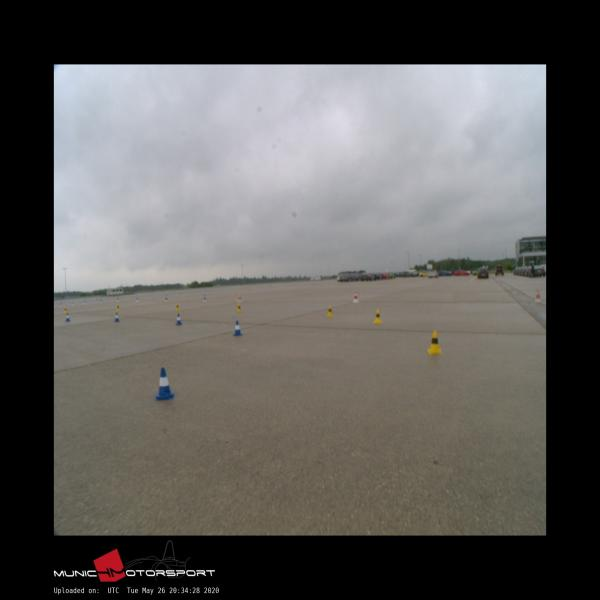blue_cone: (155, 368, 174, 400), (234, 321, 241, 335), (175, 314, 182, 324), (114, 312, 120, 321), (66, 313, 70, 321)
yellow_cone: (427, 331, 442, 354), (373, 309, 382, 323), (327, 306, 333, 317), (176, 302, 180, 311), (237, 303, 241, 312), (116, 304, 120, 311), (64, 307, 67, 313)
